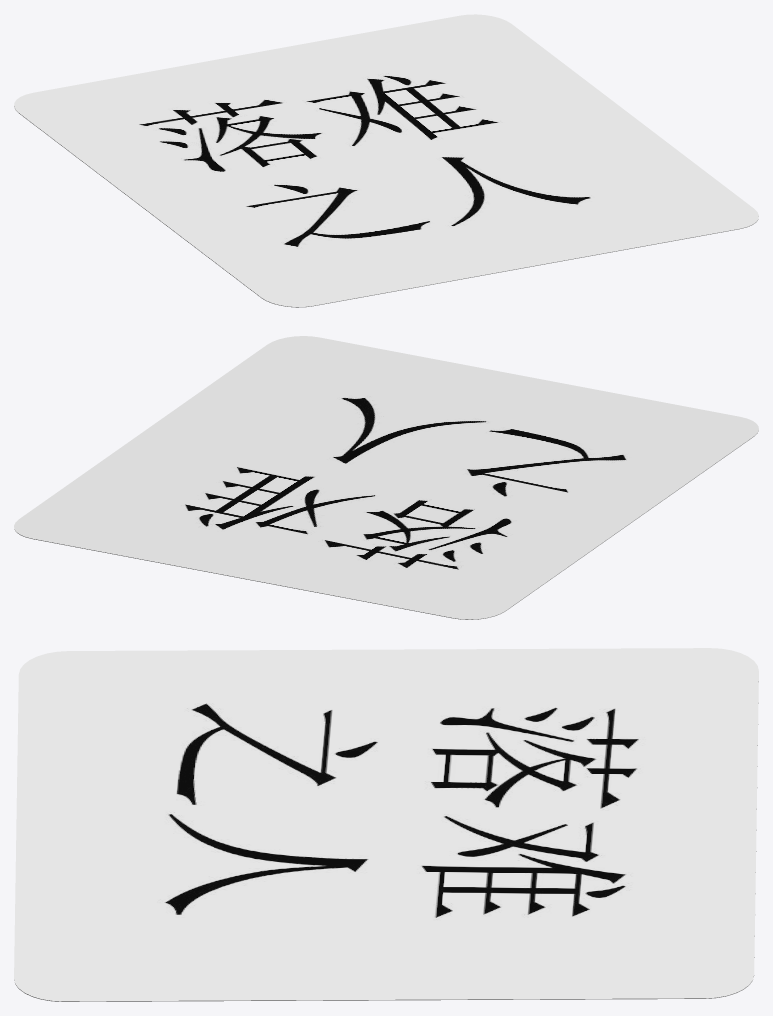
The model's file is LuoNanZhiRen.FBX.
3 views of the same model, one above another, from view 1: azimuth 30°, elevation 25°; view 2: azimuth 150°, elevation 25°; view 3: azimuth 270°, elevation 25° (orthographic). The views are drawn at different scales.
Visible parts, largest first — view 1: Rectangle001; view 2: Rectangle001; view 3: Rectangle001.
Part boxes in pixels (x1,y1,x2,y2): Rectangle001: (14,14,758,307); Rectangle001: (14,336,758,619); Rectangle001: (14,648,758,1001).
Size of the model in its own units: 60.32 by 3.91 by 60.38.
